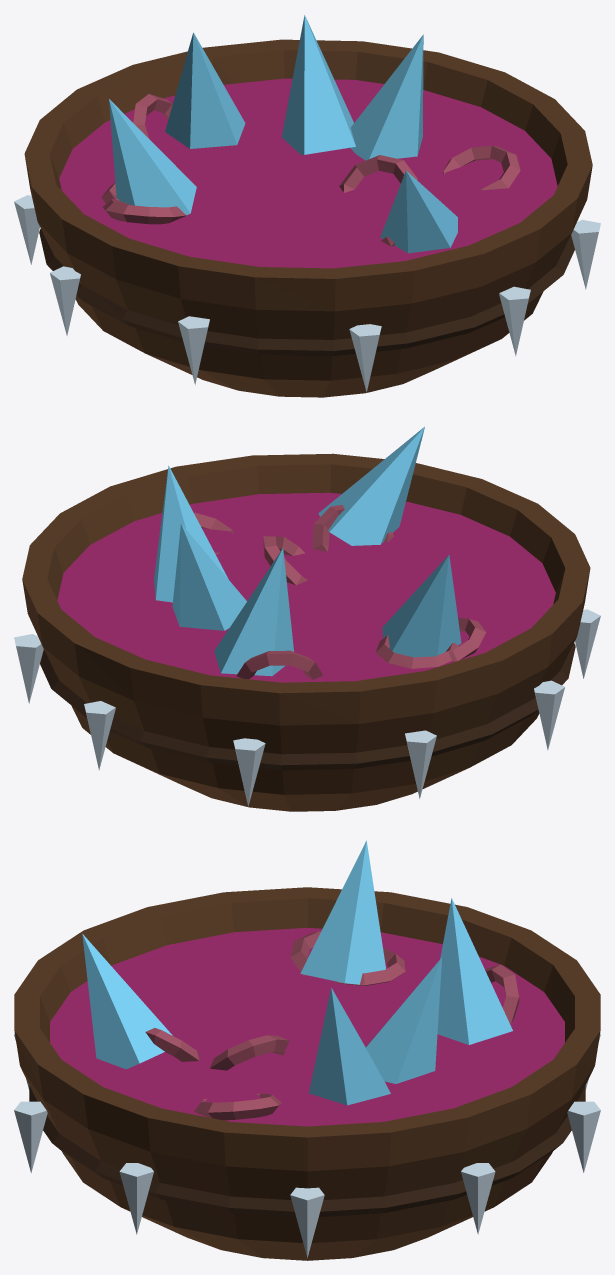
Rendered from VFP_Food_WolfThistleStew.obj.
3 renders of one model, top to bottom at view 1: azimuth 30°, elevation 25°; view 2: azimuth 150°, elevation 25°; view 3: azimuth 270°, elevation 25°, orthographic. The views are drawn at different scales.
Visible parts, largest first — view 1: Bowl, Fill, Crystals, Bowl_wood_dark, Ice, Chunks; view 2: Bowl, Fill, Crystals, Bowl_wood_dark, Ice, Chunks; view 3: Bowl, Fill, Crystals, Bowl_wood_dark, Ice, Chunks.
Boxes of the visible parts, bbox=[...] form: Bowl: bbox=[24, 39, 592, 397]; Fill: bbox=[59, 78, 557, 268]; Crystals: bbox=[109, 15, 457, 253]; Bowl_wood_dark: bbox=[39, 228, 574, 355]; Ice: bbox=[14, 195, 600, 392]; Chunks: bbox=[101, 94, 520, 246]; Bowl: bbox=[22, 453, 590, 811]; Fill: bbox=[57, 492, 555, 682]; Crystals: bbox=[154, 426, 461, 676]; Bowl_wood_dark: bbox=[40, 643, 575, 770]; Ice: bbox=[14, 609, 600, 806]; Chunks: bbox=[194, 505, 485, 679]; Bowl: bbox=[14, 887, 600, 1260]; Fill: bbox=[50, 927, 564, 1126]; Crystals: bbox=[82, 840, 512, 1105]; Bowl_wood_dark: bbox=[29, 1085, 585, 1216]; Ice: bbox=[14, 1033, 600, 1258]; Chunks: bbox=[145, 931, 519, 1120].
Size of the model in its own units: 0.3381 by 0.1656 by 0.3234.
